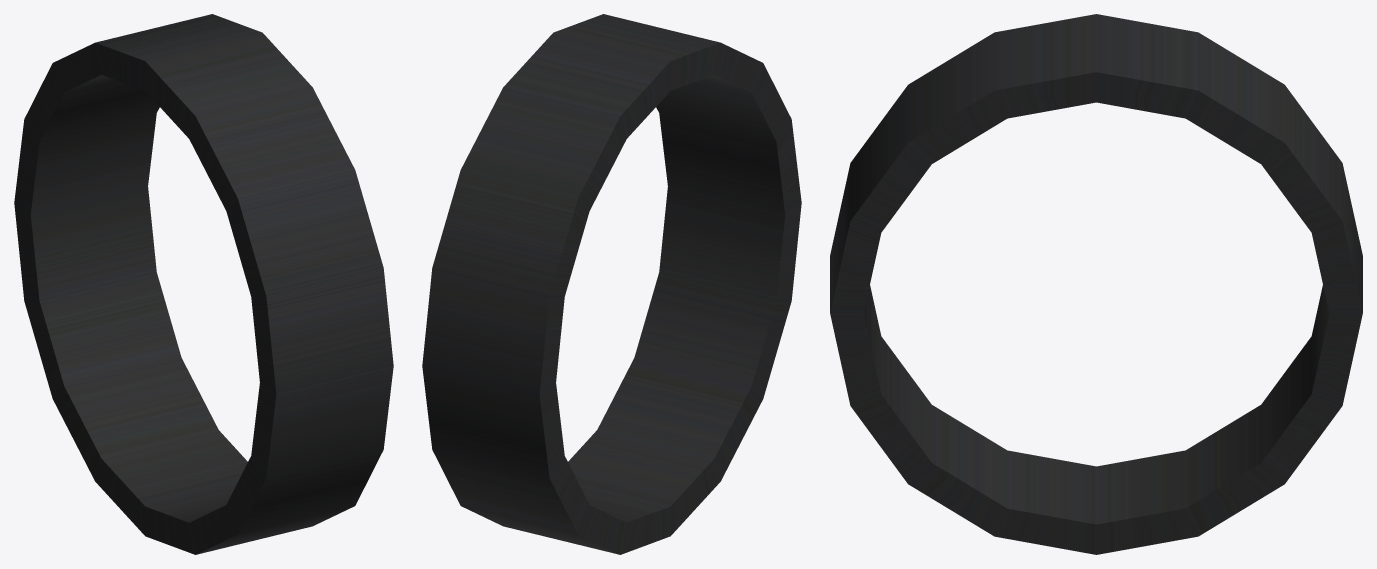
Rendered from Plain_Round_Nut.dae.
3 views of the same model, side by side, from view 1: azimuth 30°, elevation 25°; view 2: azimuth 150°, elevation 25°; view 3: azimuth 270°, elevation 25° (orthographic).
Visible parts, largest first — view 1: Plain_Round_Nut; view 2: Plain_Round_Nut; view 3: Plain_Round_Nut.
Part boxes in pixels (box(x1,y1,x2,y2)): Plain_Round_Nut: box(14, 14, 393, 554); Plain_Round_Nut: box(422, 14, 801, 554); Plain_Round_Nut: box(830, 14, 1362, 554).
Bounding box in the file's own units: 0.00887 × 0.0343 × 0.0343.
Materials: 1 (1 with a texture image).
